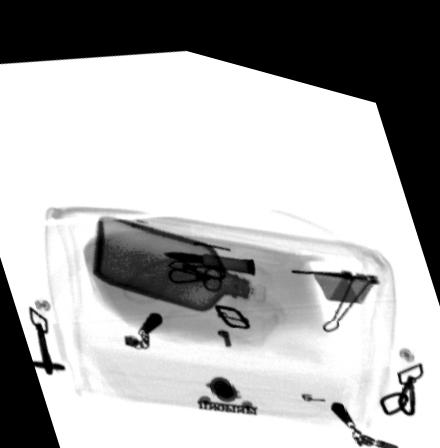Bullet: (157, 240, 255, 262)
